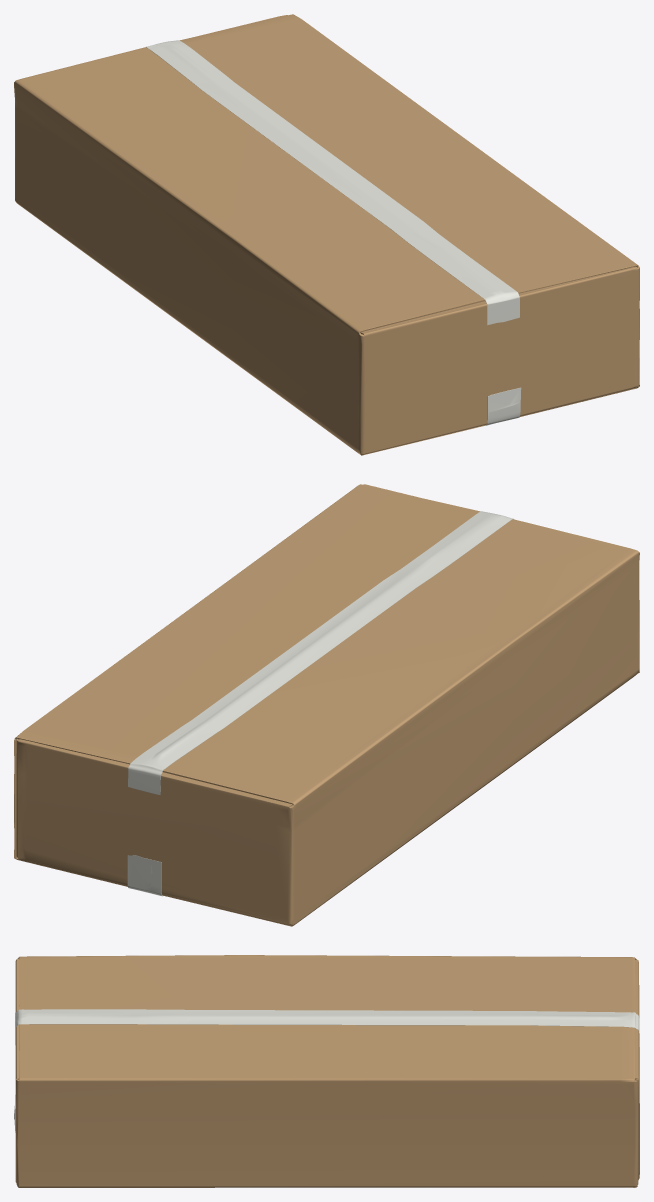
The model's file is box_flat_white_b10.glb.
The picture shows the model from 3 angles, top to bottom: view 1: azimuth 30°, elevation 25°; view 2: azimuth 150°, elevation 25°; view 3: azimuth 270°, elevation 25°; orthographic projection. The views are drawn at different scales.
Size of the model in its own units: 0.261 by 0.1137 by 0.5625.
